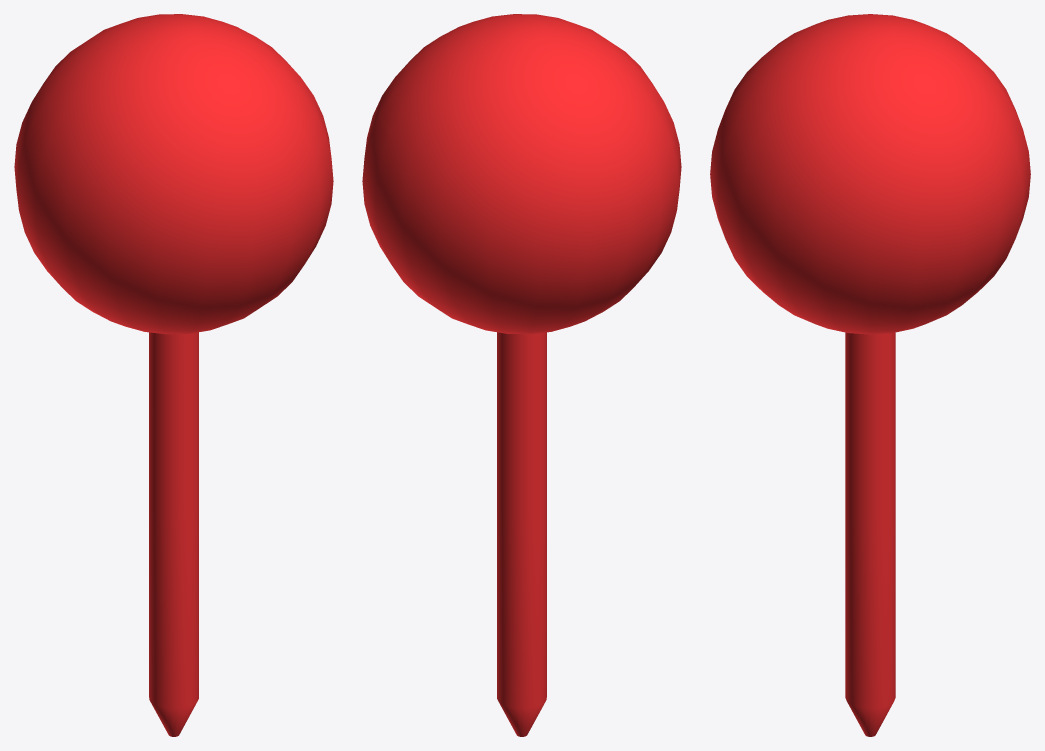
Rendered from pin.glb.
3 views of the same model, side by side, from view 1: azimuth 30°, elevation 25°; view 2: azimuth 150°, elevation 25°; view 3: azimuth 270°, elevation 25° (orthographic).
Visible parts, largest first — view 1: pins_9; view 2: pins_9; view 3: pins_9.
Part boxes in pixels (<box>): pins_9: <box>14,14,333,736</box>; pins_9: <box>362,14,681,736</box>; pins_9: <box>710,14,1030,736</box>.
Bounding box in the file's own units: 0.0363 × 0.0881 × 0.0363.
